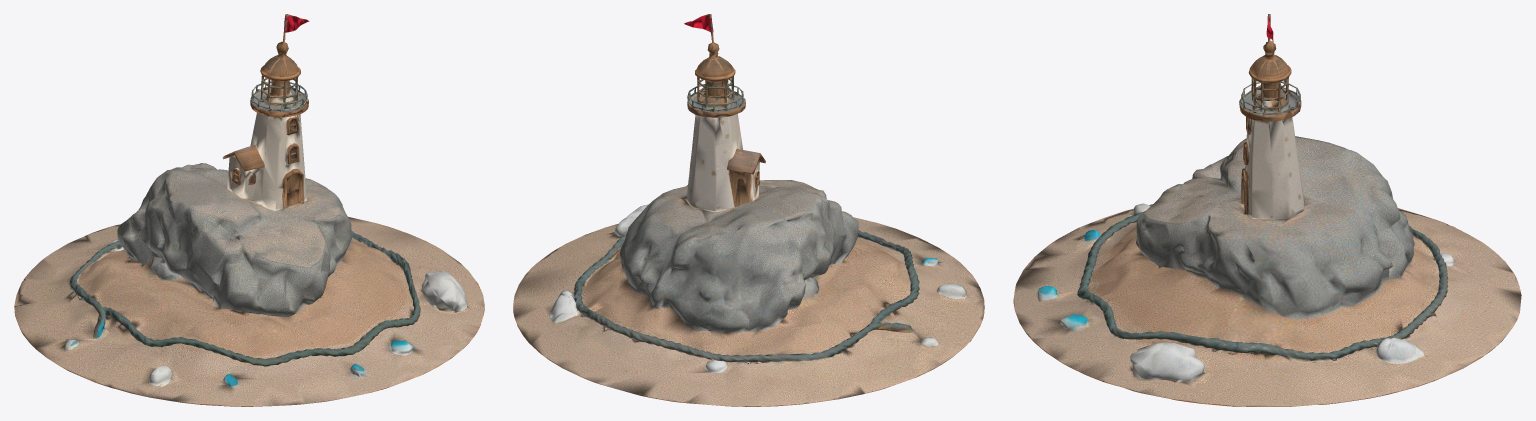
The model's file is sling_lighthouseIslet.glb.
3 renders of one model, left to right at view 1: azimuth 30°, elevation 25°; view 2: azimuth 150°, elevation 25°; view 3: azimuth 270°, elevation 25°, orthographic. The views are drawn at different scales.
Size of the model in its own units: 1.9 by 1.26 by 1.9.
1 material, 1 textured.
